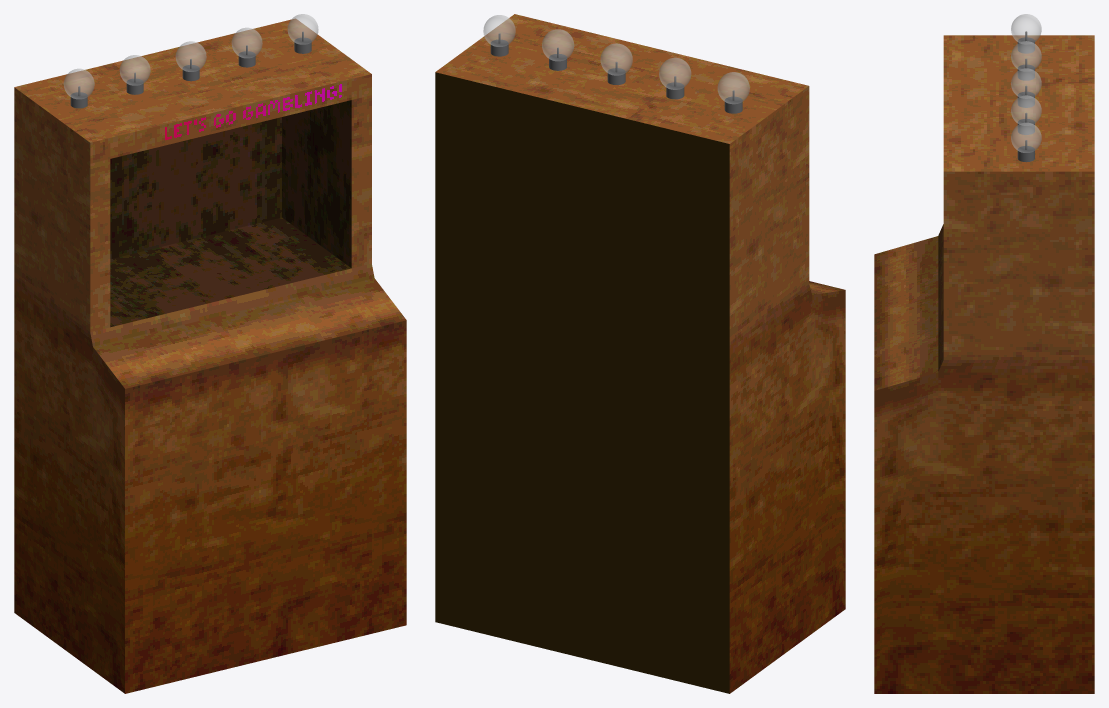
The model's file is slot.glb.
3 views of the same model, side by side, from view 1: azimuth 30°, elevation 25°; view 2: azimuth 150°, elevation 25°; view 3: azimuth 270°, elevation 25° (orthographic). The views are drawn at different scales.
Visible parts, largest first — view 1: GamblingMachine; view 2: GamblingMachine; view 3: GamblingMachine.
Boxes of the visible parts, x1=… form: GamblingMachine: x1=14, y1=14, x2=406, y2=693; GamblingMachine: x1=435, y1=14, x2=845, y2=693; GamblingMachine: x1=874, y1=14, x2=1094, y2=693.
Size of the model in its own units: 0.8863 by 1.69 by 0.6047.
Materials: 3 (1 with a texture image).
